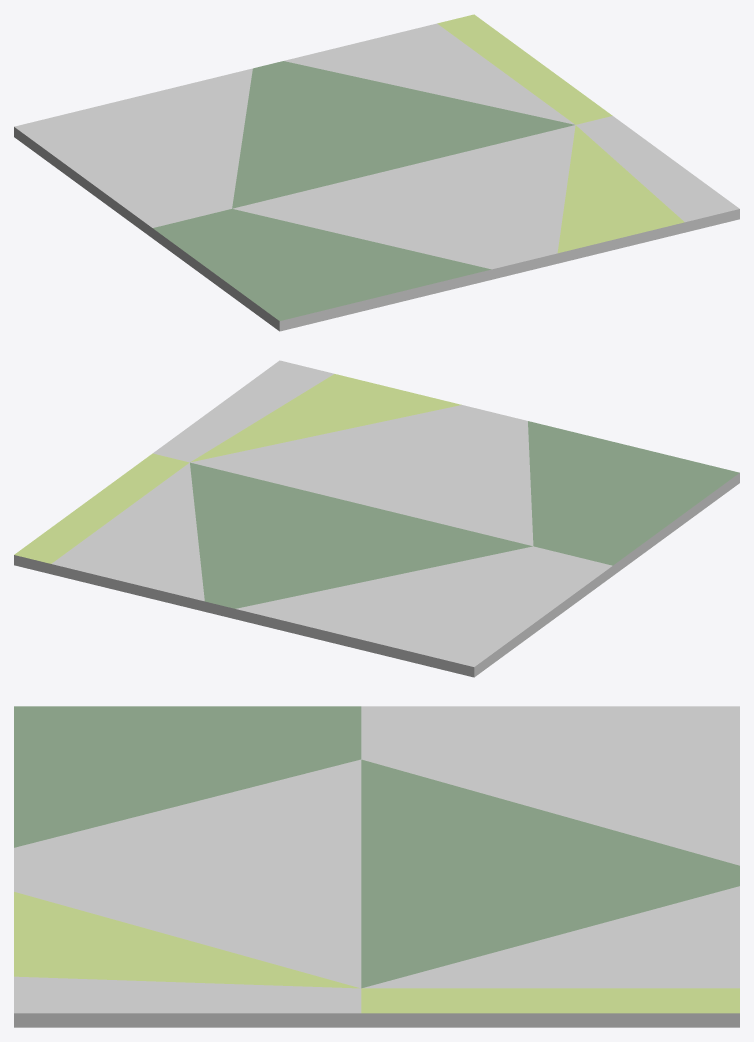
Rendered from AirportFloorPattern2.fbx.
3 views of the same model, one above another, from view 1: azimuth 30°, elevation 25°; view 2: azimuth 150°, elevation 25°; view 3: azimuth 270°, elevation 25° (orthographic). The views are drawn at different scales.
Visible parts, largest first — view 1: FloorTwo; view 2: FloorTwo; view 3: FloorTwo.
Boxes of the visible parts, x1,y1,x2,y2 form: FloorTwo: (14,14,739,331); FloorTwo: (14,360,739,677); FloorTwo: (14,706,739,1027).
Bounding box in the file's own units: 71.9 × 1.55 × 71.9.
